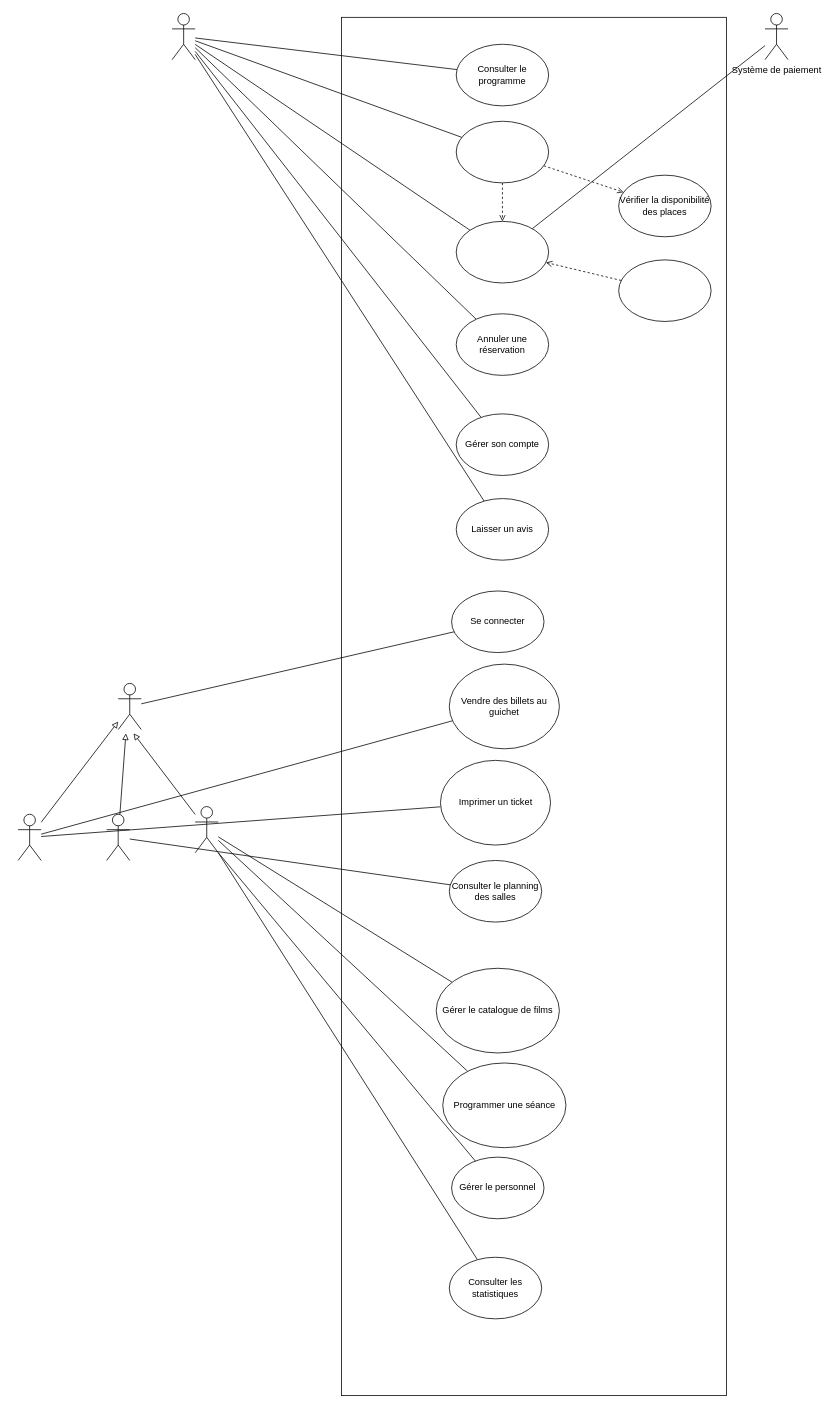
Some shapes in this 835 by 1409 pixel diagram are drawn without their labels. Each missing label, with the centre of its shape:
Appliquer la réduction fidélité: (x=664, y=290)
Caissier: (x=29, y=837)
Client: (x=183, y=36)
Employé: (x=129, y=706)
Manager: (x=206, y=829)
Payer en ligne: (x=502, y=252)
Projectionniste: (x=118, y=837)
Réserver des places: (x=502, y=152)
